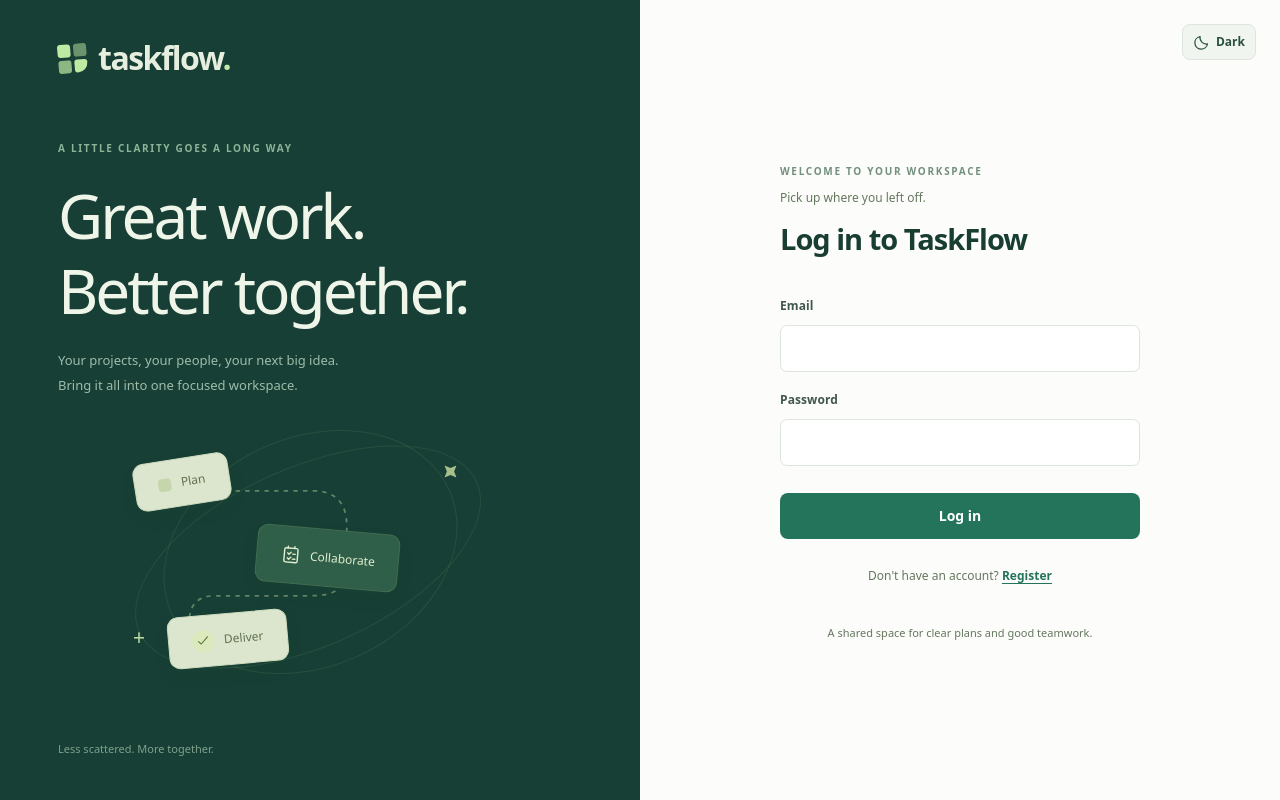
Test: UI-only workspace navigation › preserves registration and redirects into the same workspace
The width and height of the screenshot is (1280, 800).
Click the button "Register" at (1027, 576), box [1002,568,1052,584]
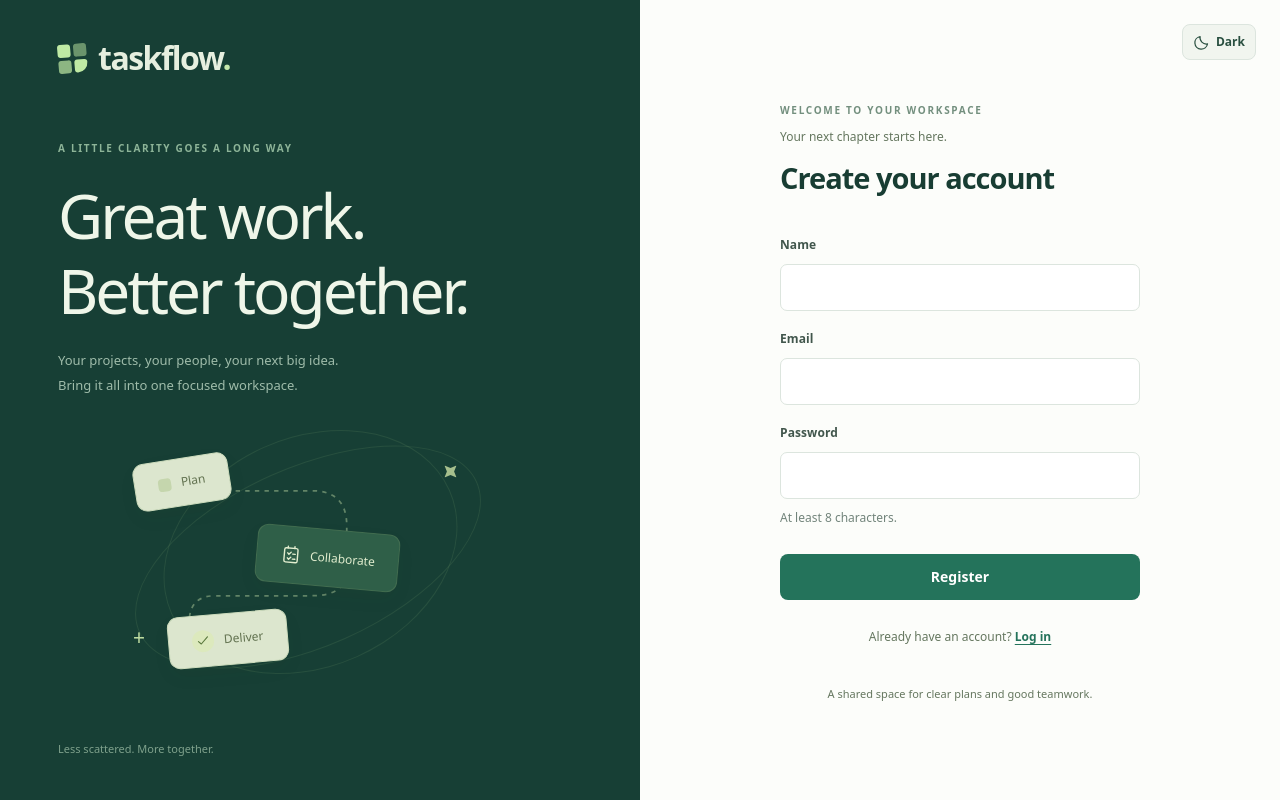
Type "Avery Green" into the field labelled "Name" at (960, 287), box [780,264,1140,311]
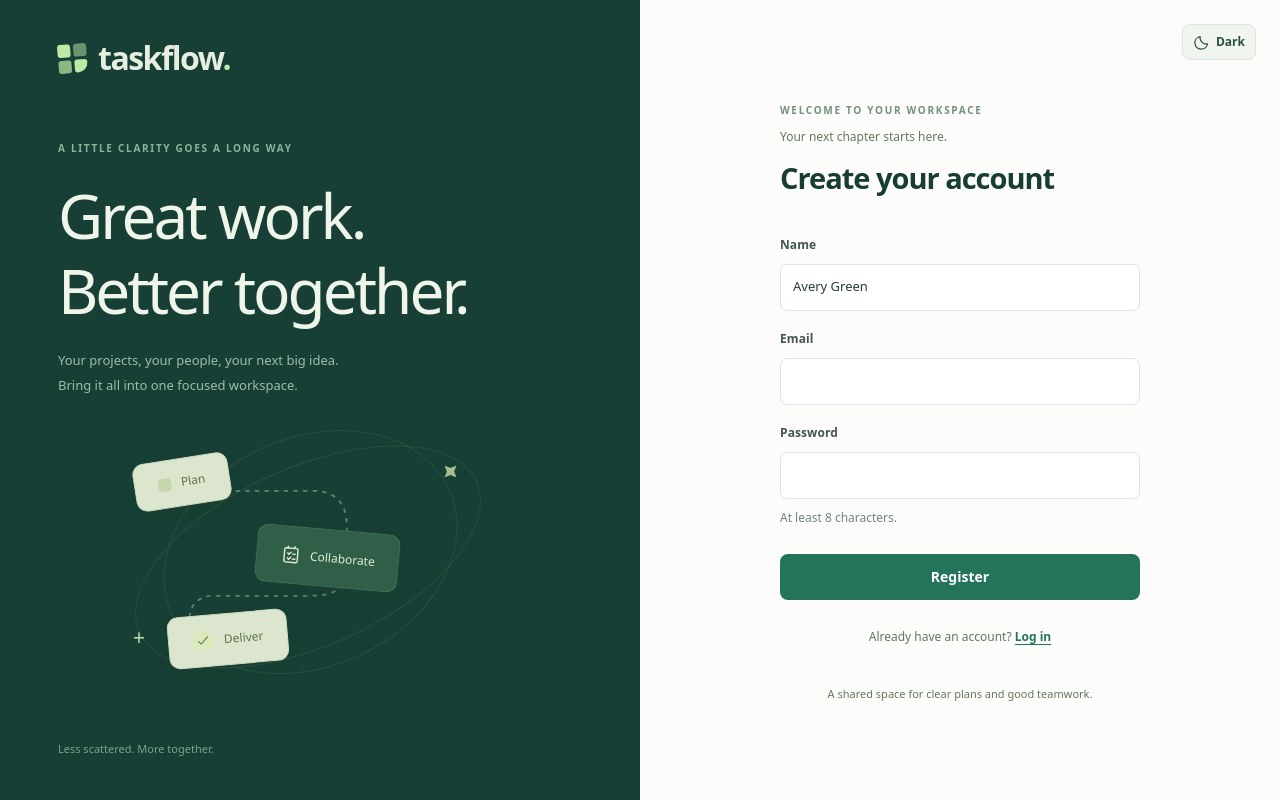
Type "avery@example.test" into the field labelled "Email" at (960, 381), box [780,358,1140,405]
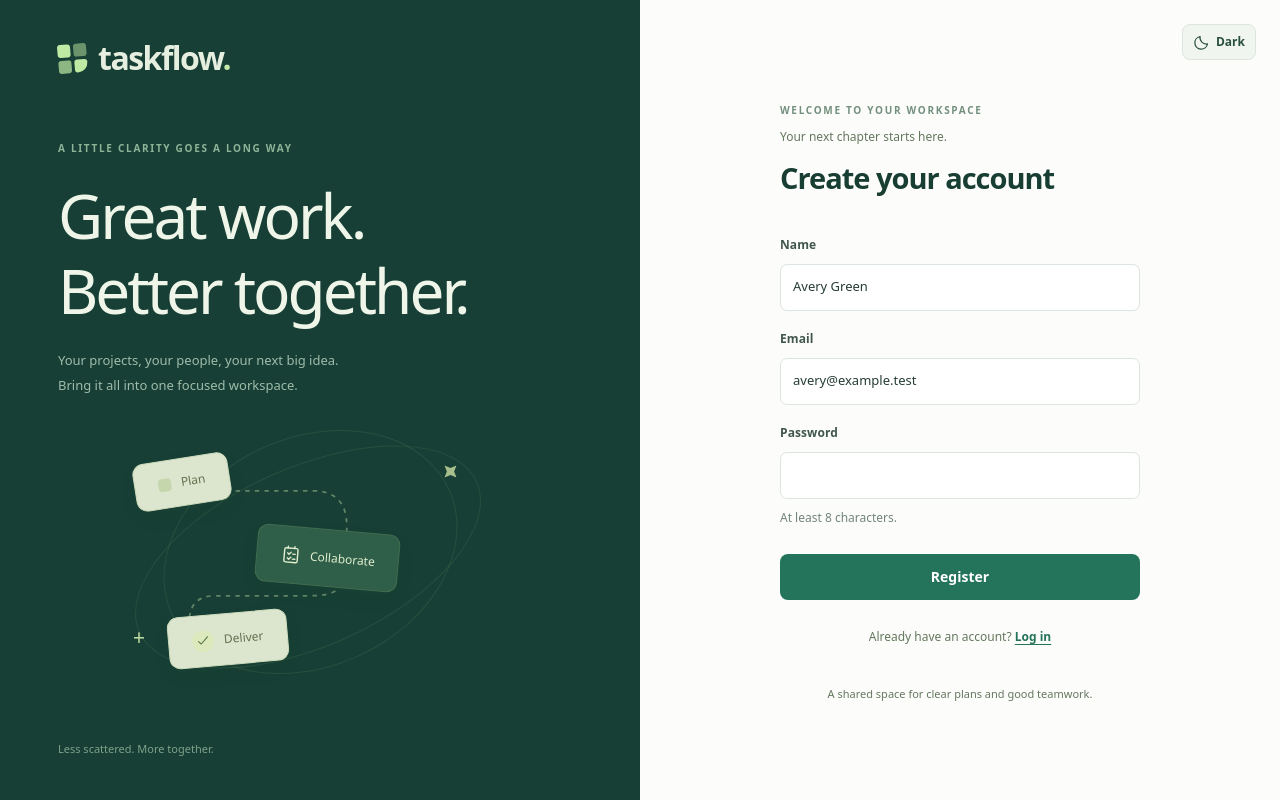
Type "TestPassword123!" into the password field labelled "Password" at (960, 475), box [780,452,1140,499]
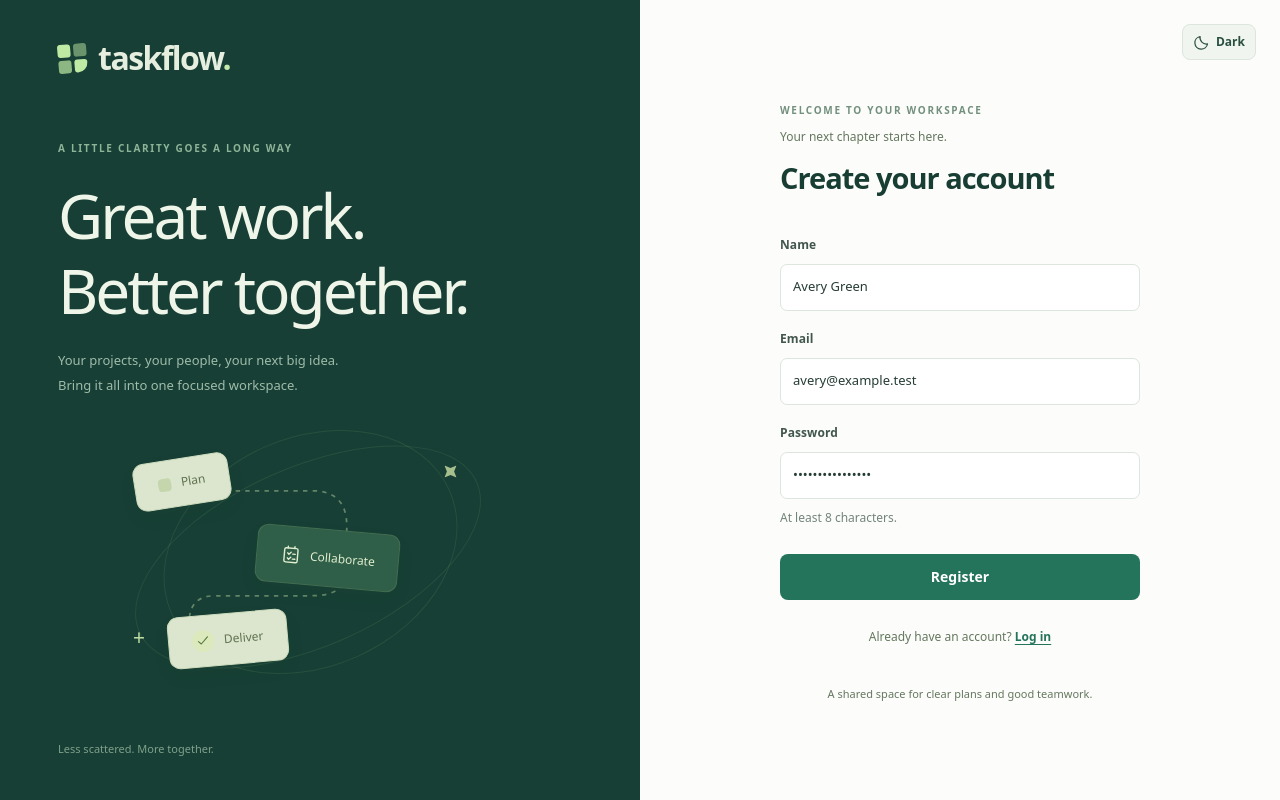
Click the button "Register" at (960, 577), box [780,554,1140,600]
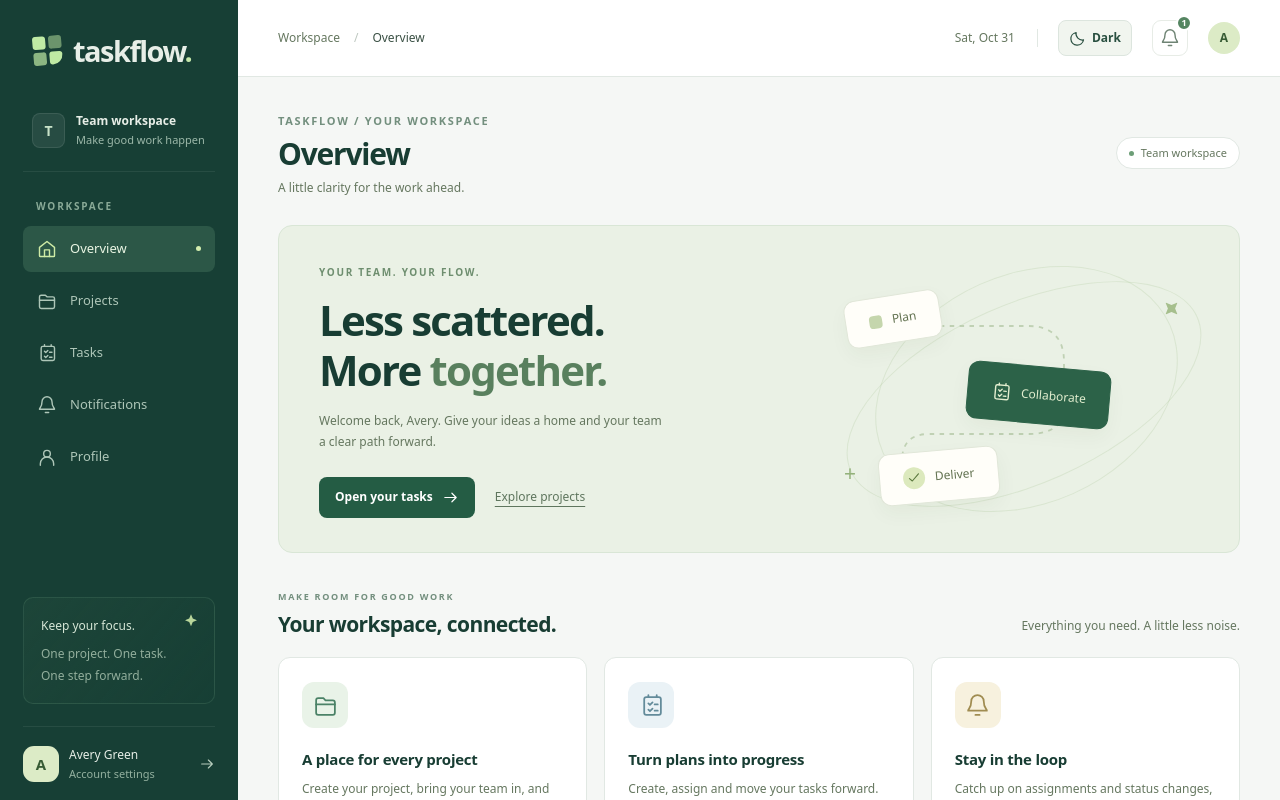
Expected: the heading "Overview" is shown, [278,133,410,174]
